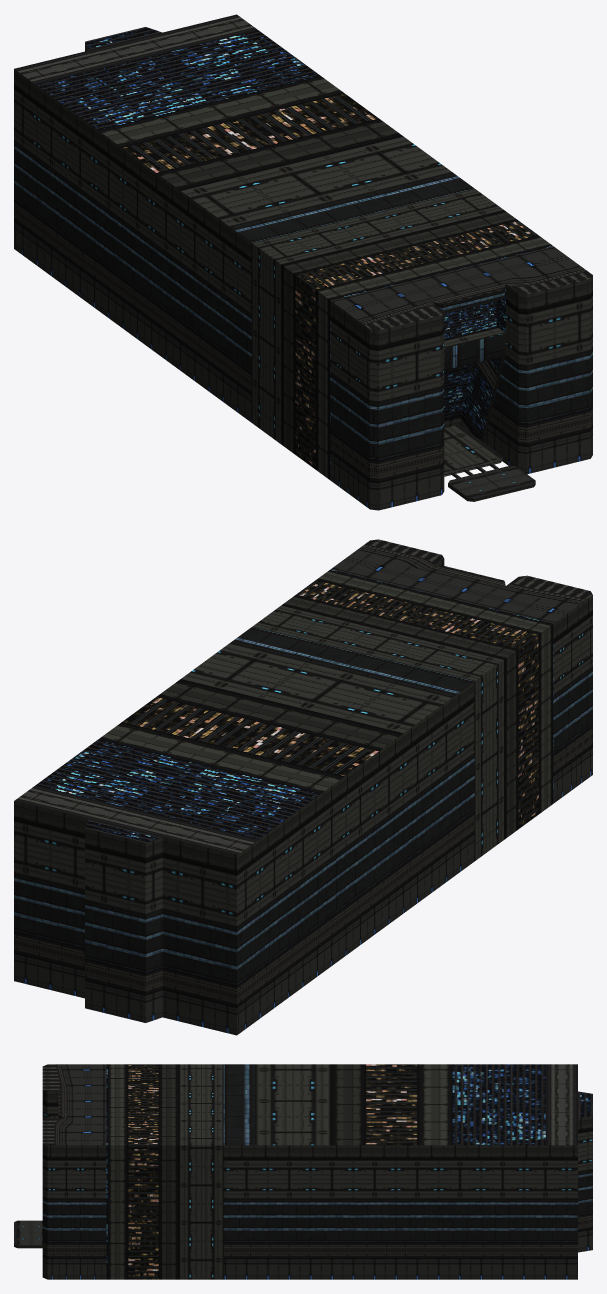
Rendered from Ultra5.fbx.
The picture shows the model from 3 angles, top to bottom: view 1: azimuth 30°, elevation 25°; view 2: azimuth 150°, elevation 25°; view 3: azimuth 270°, elevation 25°; orthographic projection. The views are drawn at different scales.
Visible parts, largest first — view 1: polySurface434; view 2: polySurface434; view 3: polySurface434.
Boxes of the visible parts, left/top/right/bottom form: polySurface434: left=14, top=14, right=592, bottom=510; polySurface434: left=14, top=539, right=592, bottom=1035; polySurface434: left=14, top=1064, right=592, bottom=1279.
Size of the model in its own units: 15 by 11.58 by 45.3.
Materials: 1 (1 with a texture image).
